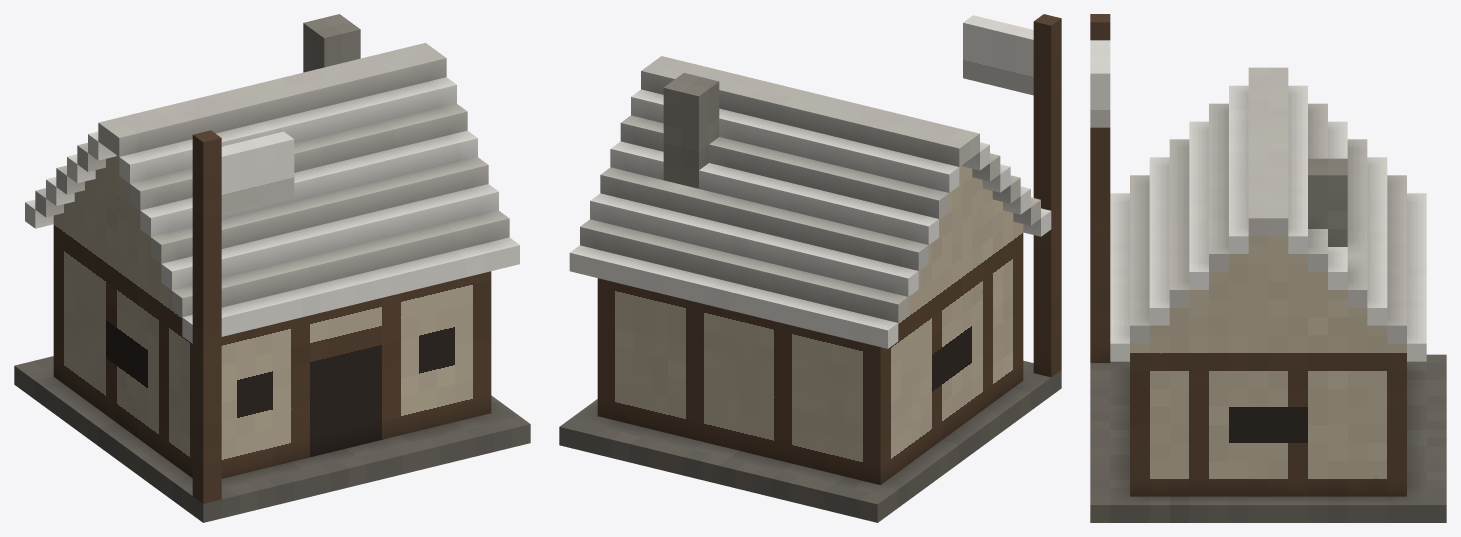
File: barracks.glb
The picture shows the model from 3 angles, left to right: view 1: azimuth 30°, elevation 25°; view 2: azimuth 150°, elevation 25°; view 3: azimuth 270°, elevation 25°; orthographic projection. The views are drawn at different scales.
Visible parts, largest first — view 1: body, paint; view 2: body, paint; view 3: body, paint.
Part boxes in pixels (x1,y1,x2,y2): body: [14, 14, 530, 522]; paint: [25, 43, 519, 343]; body: [559, 14, 1061, 522]; paint: [569, 15, 1051, 348]; body: [1090, 14, 1446, 522]; paint: [1090, 40, 1426, 361].
Bounding box in the file's own units: 2.25 × 2.5 × 2.25.
Materials: 2 (2 with a texture image).
